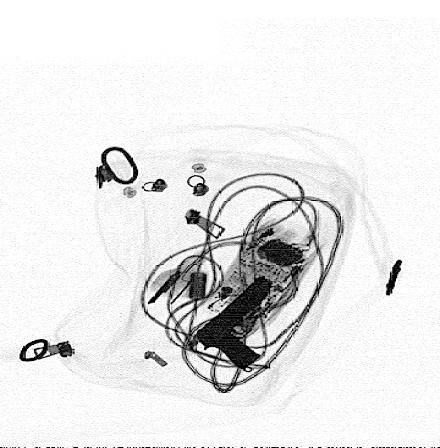Gun: (196, 274, 274, 369)
